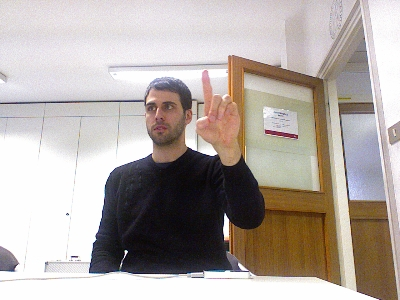食指: (194, 69, 241, 146)
